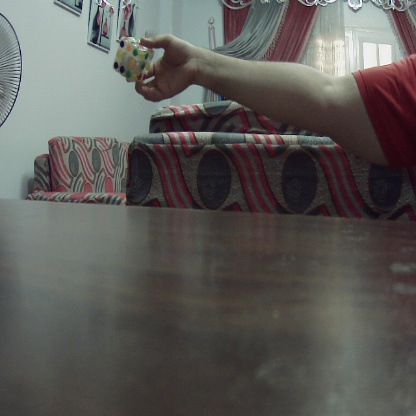Rubix Cube: (115, 36, 154, 79)
